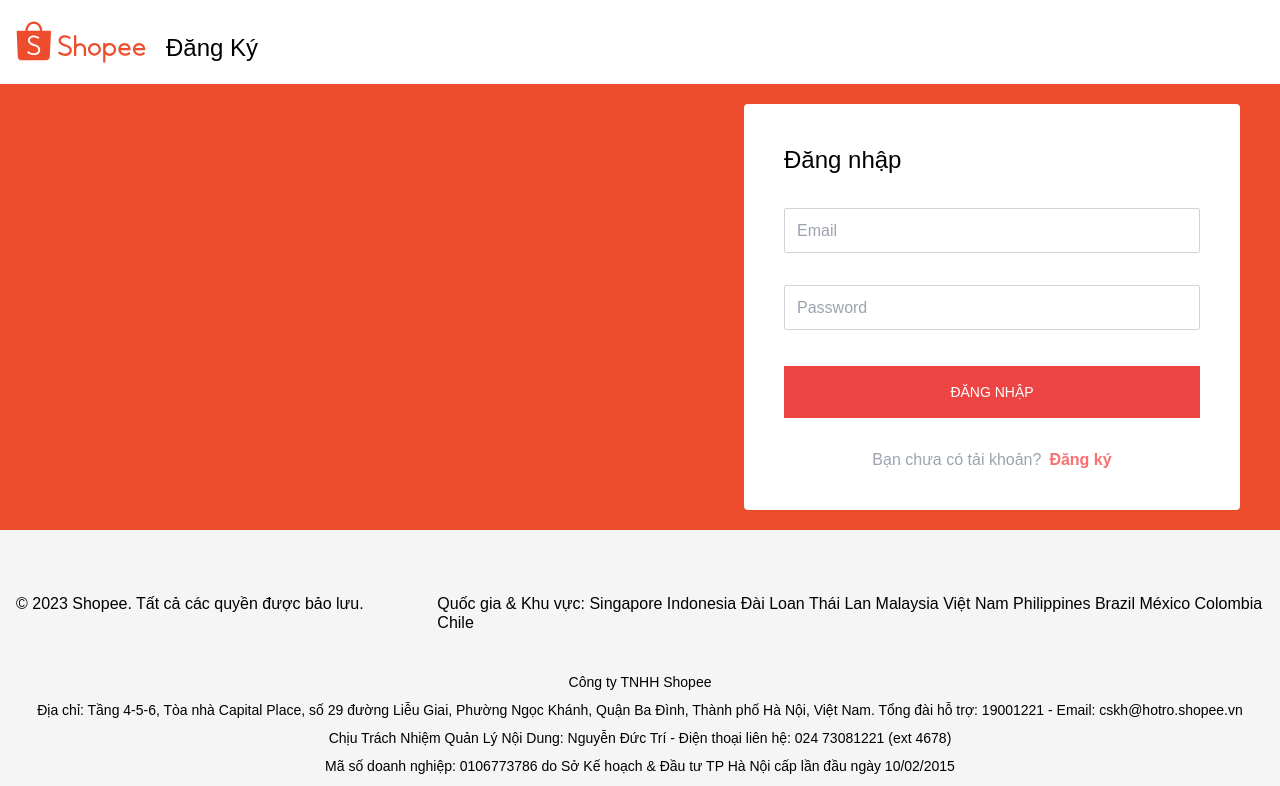
Test: Login › Hiển thị lỗi required khi không nhập gì
Expected: the field with placeholder "Email" is shown, [784,208,1200,253]
Click the submit button. click: (992, 392)
box: [784,366,1200,418]
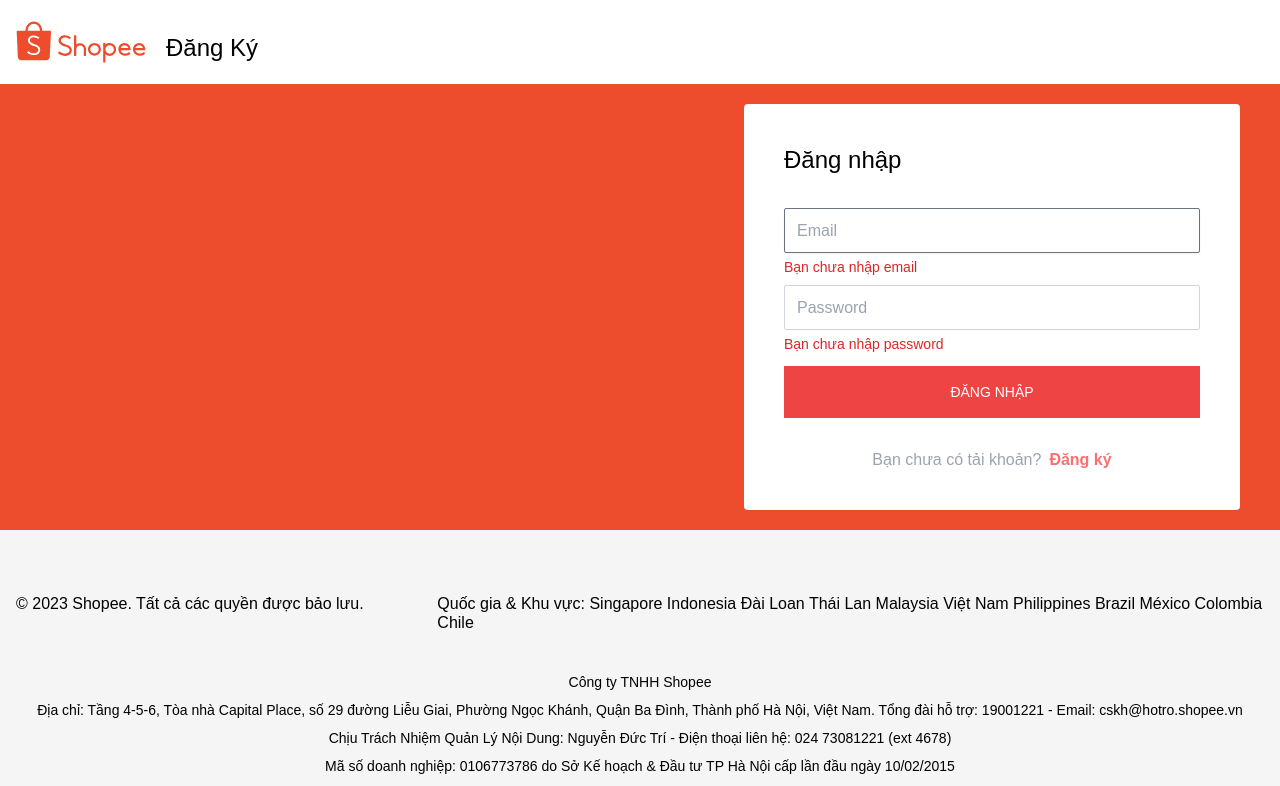
Expected: the text "Bạn chưa nhập email" is shown, [784,259,917,275]
Expected: the text "Bạn chưa nhập password" is shown, [784,336,944,352]
